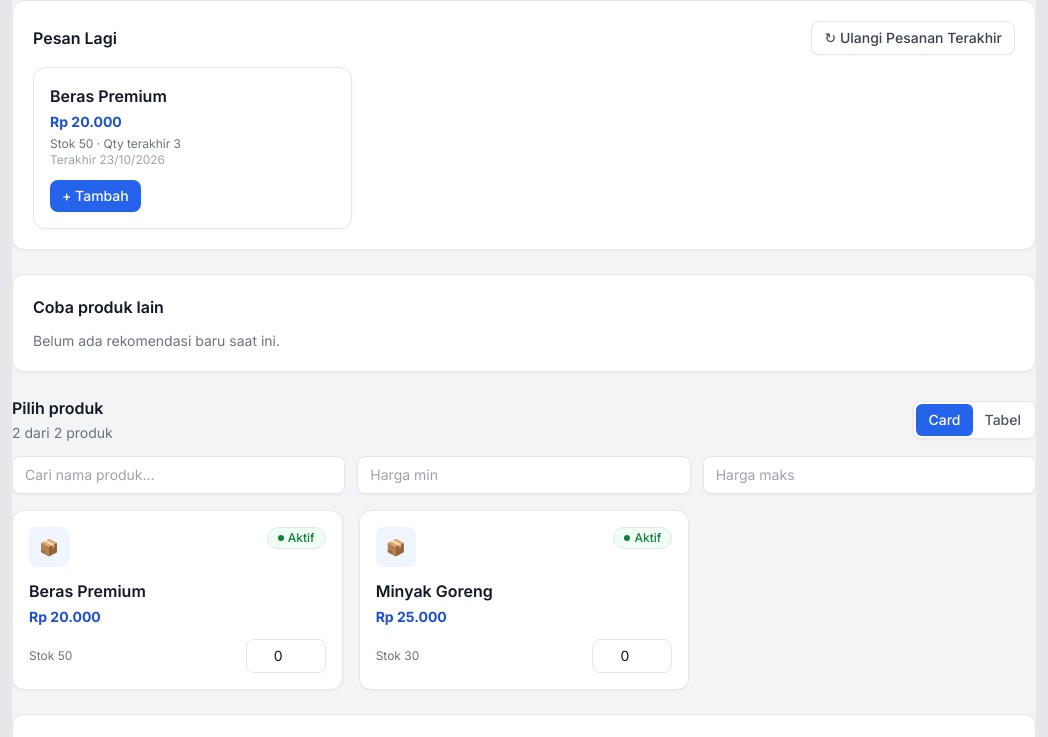
OrderForm — Pesanan Lagi Fast Reorder Integration › R2: clicking Tambah adds quantity additively to cart
Expected: the heading "Pesan Lagi" is shown, [33,26,117,50]
Click the button with aria-label "Tambah Beras Premium" at (95, 196), box [50,180,141,212]
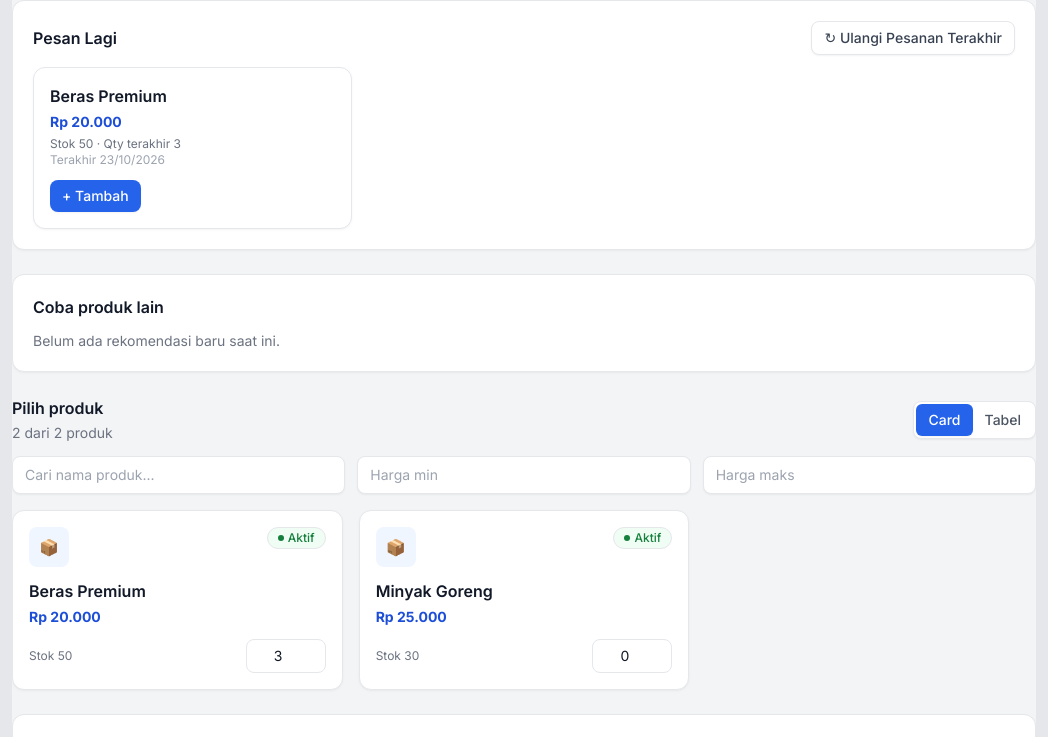
Expected: the number field named "Jumlah Beras Premium" holds "3", [246,639,326,673]
Click the button with aria-label "Tambah Beras Premium" at (95, 196), box [50,180,141,212]
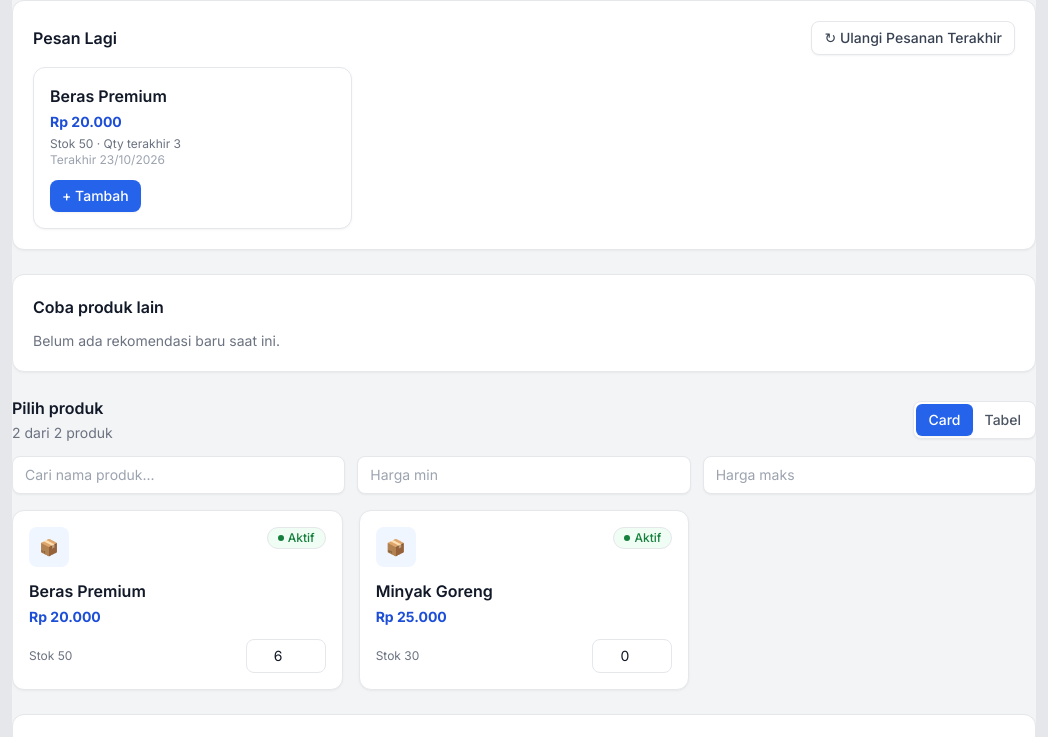
Expected: the number field named "Jumlah Beras Premium" holds "6", [246,639,326,673]
